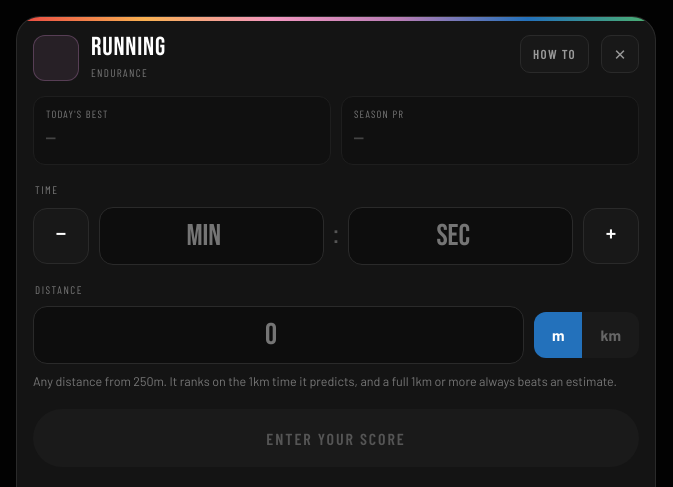
Scenario: natural formats in the sheet › takes any distance and time on a run, and ranks the predicted 1000m
In the number field named "Distance": (278, 335) [33,306,524,364], type "5"
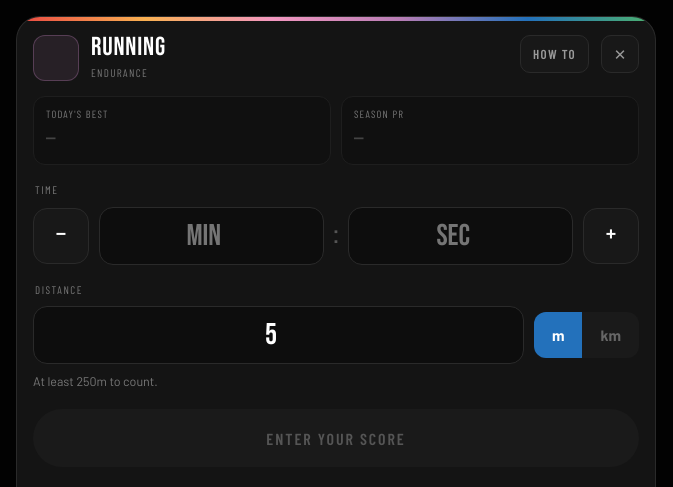
Click the button "km": click(611, 335) [582,312,639,358]
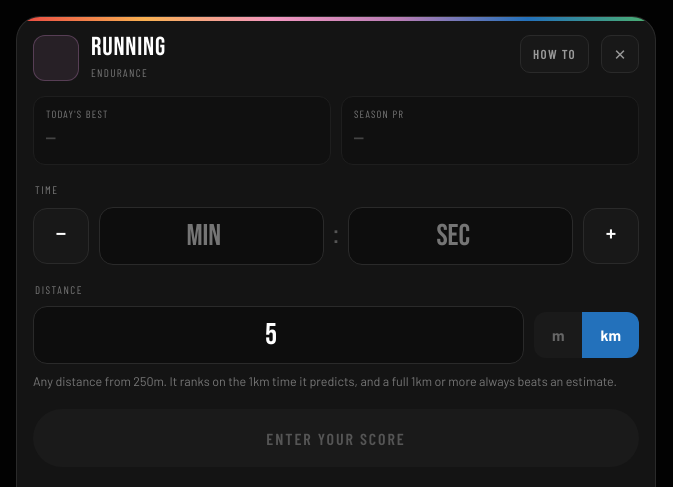
In the number field with placeholder "min": (211, 236) [99,207,324,265], type "26"
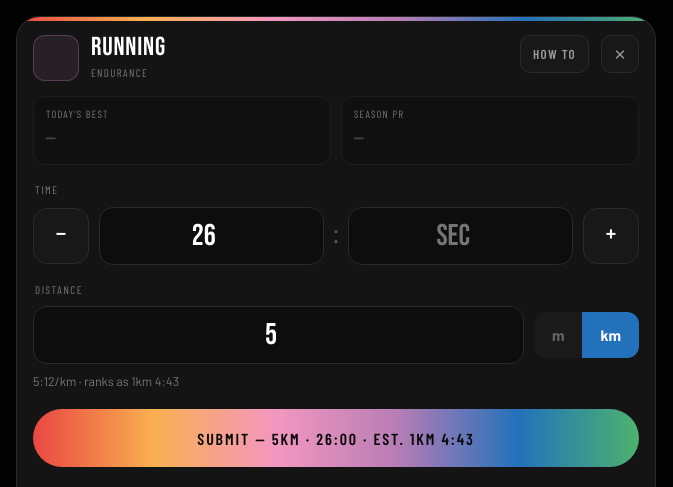
In the number field with placeholder "sec": (461, 236) [348,207,573,265], type "10"
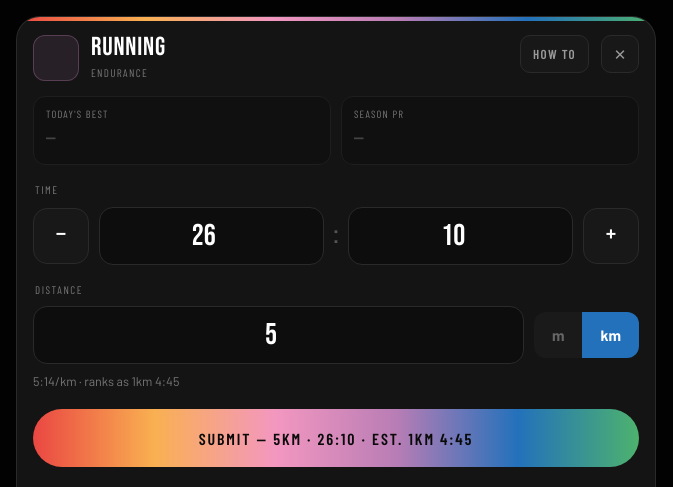
Result: the text "5:14/km · ranks as 1km 4:45" is shown at [33,373,179,389]
Result: the button "Submit — 5km · 26:10 · est. 1km 4:45" is shown at [33,409,639,467]
